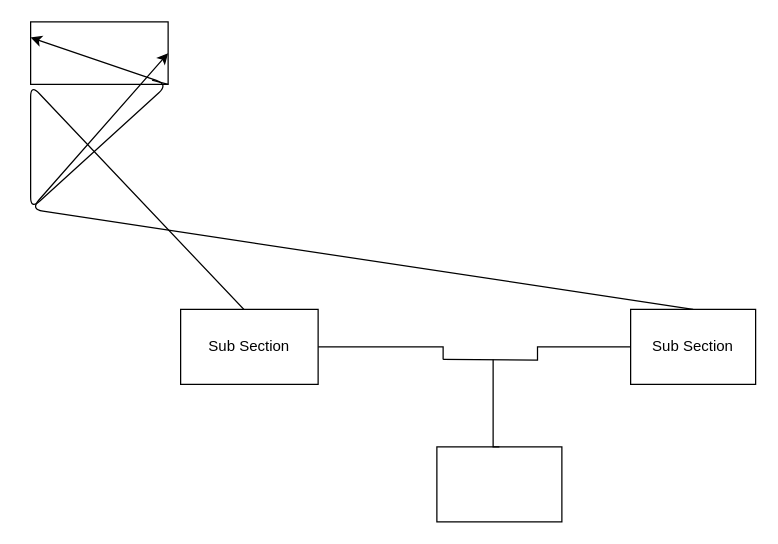
This 778x544 diagram has some shape labels left out. The box of each missing label's shape, as (x1, y1, x2, y2) in pixels:
Division: (436, 446, 562, 522)
Main: (29, 21, 168, 84)
